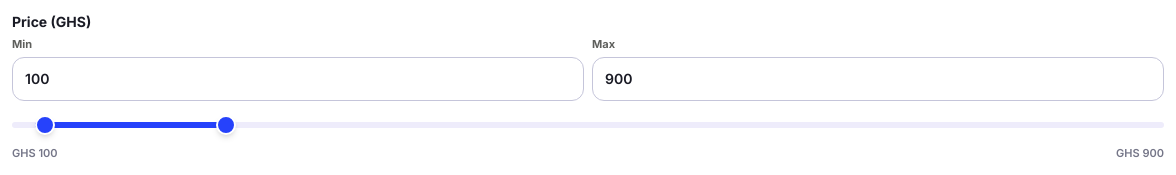
Test: PriceRangeFilter › synchronizes sliders with submitted min and max inputs
Expected: the number field named "Minimum price" holds "100", 12,56 -> 584,100
Expected: the number field named "Maximum price" holds "900", 592,56 -> 1164,100
Set the slider named "Minimum price slider" to "250" at (77, 124), box 12,112 -> 1164,136
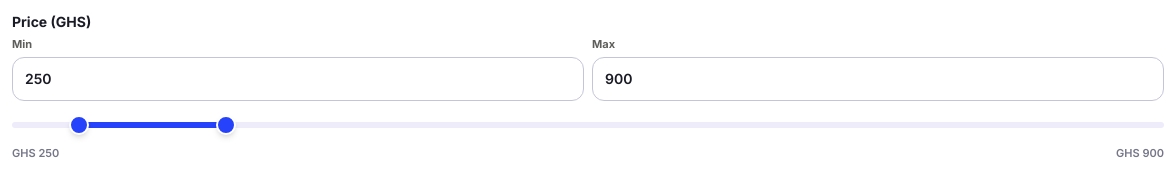
Set the slider named "Maximum price slider" to "700" at (179, 124), box 12,112 -> 1164,136
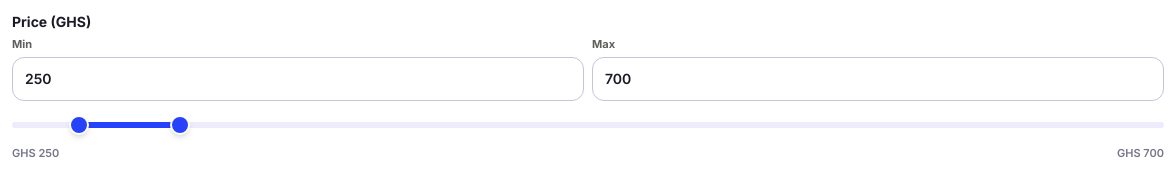
Result: the number field named "Minimum price" holds "250" at 12,56 -> 584,100
Result: the number field named "Maximum price" holds "700" at 592,56 -> 1164,100
